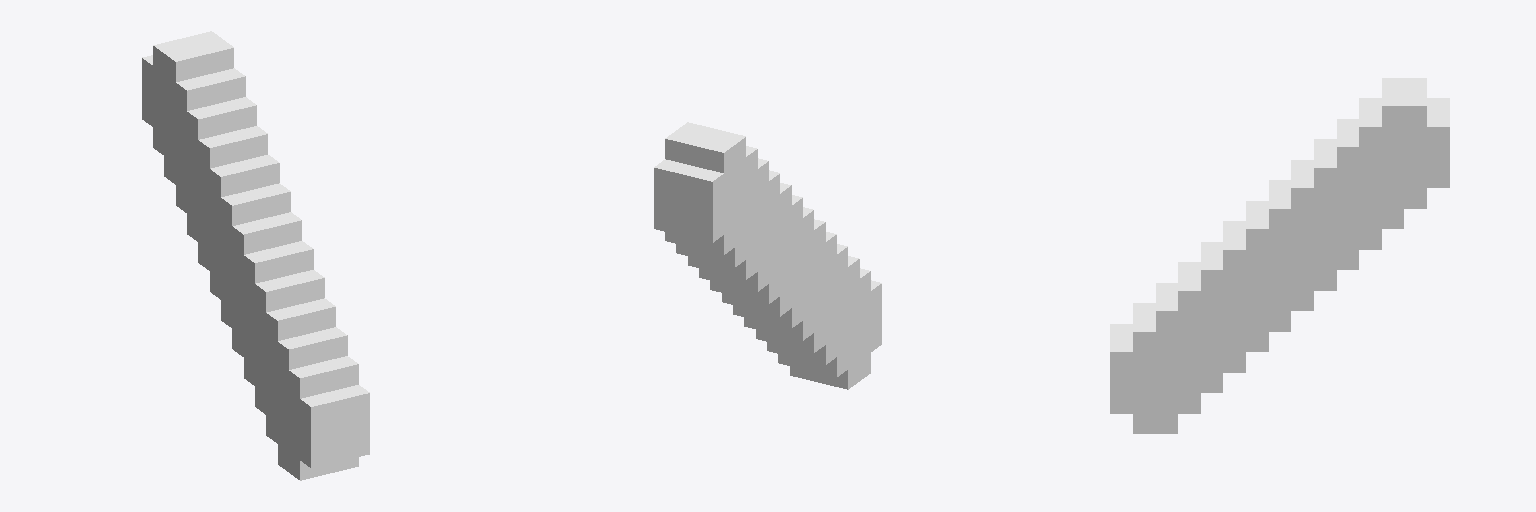
File: Eruption-20.obj
3 renders of one model, left to right at view 1: azimuth 30°, elevation 25°; view 2: azimuth 150°, elevation 25°; view 3: azimuth 270°, elevation 25°, orthographic.
Visible parts, largest first — view 1: object 1; view 2: object 1; view 3: object 1.
Part boxes in pixels (x1,y1,x2,y2): object 1: (142,31,369,480); object 1: (654,122,881,389); object 1: (1110,78,1449,433).
Bounding box in the file's own units: 0.3 × 1.6 × 1.5.